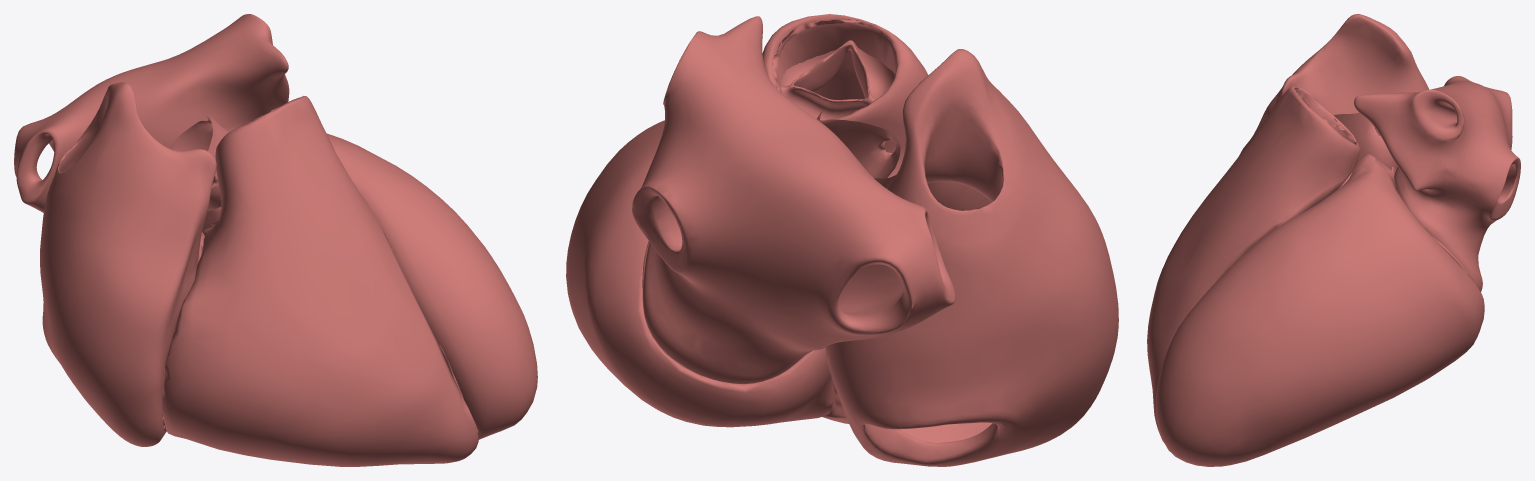
Rendered from vh_m_heart-40.glb.
3 renders of one model, left to right at view 1: azimuth 30°, elevation 25°; view 2: azimuth 150°, elevation 25°; view 3: azimuth 270°, elevation 25°, orthographic. The views are drawn at different scales.
Parts seen in each view (by area): view 1: VH_M_heart_right_ventricle, VH_M_right_cardiac_atrium, VH_M_heart_left_ventricle, VH_M_left_cardiac_atrium, VH_M_aortic_valve; view 2: VH_M_left_cardiac_atrium, VH_M_right_cardiac_atrium, VH_M_heart_left_ventricle, VH_M_heart_right_ventricle, VH_M_pulmonary_valve, VH_M_aortic_valve; view 3: VH_M_heart_left_ventricle, VH_M_heart_right_ventricle, VH_M_left_cardiac_atrium, VH_M_right_cardiac_atrium, VH_M_aortic_valve.
Boxes of the visible parts, box(x1,y1,x2,y2) form: VH_M_heart_right_ventricle: box(162, 96, 478, 466); VH_M_right_cardiac_atrium: box(40, 82, 216, 446); VH_M_heart_left_ventricle: box(202, 133, 537, 439); VH_M_left_cardiac_atrium: box(14, 14, 289, 212); VH_M_aortic_valve: box(170, 114, 229, 210); VH_M_left_cardiac_atrium: box(632, 16, 955, 383); VH_M_right_cardiac_atrium: box(825, 49, 1118, 466); VH_M_heart_left_ventricle: box(566, 120, 833, 427); VH_M_heart_right_ventricle: box(762, 14, 928, 423); VH_M_pulmonary_valve: box(772, 19, 895, 119); VH_M_aortic_valve: box(817, 112, 900, 188); VH_M_heart_left_ventricle: box(1155, 153, 1484, 466); VH_M_heart_right_ventricle: box(1147, 86, 1359, 442); VH_M_left_cardiac_atrium: box(1354, 76, 1520, 291); VH_M_right_cardiac_atrium: box(1239, 14, 1429, 155); VH_M_aortic_valve: box(1334, 112, 1397, 169).
Size of the model in its own units: 0.1243 by 0.1054 by 0.1053.
